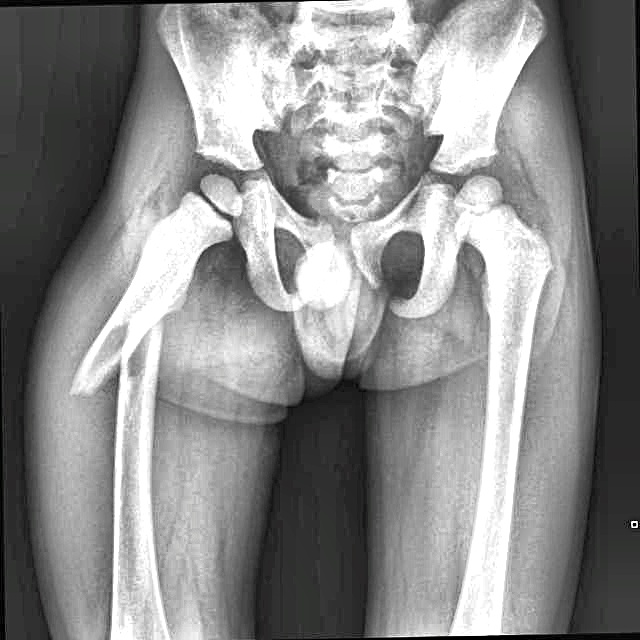Oblique: (71, 289, 180, 419)
